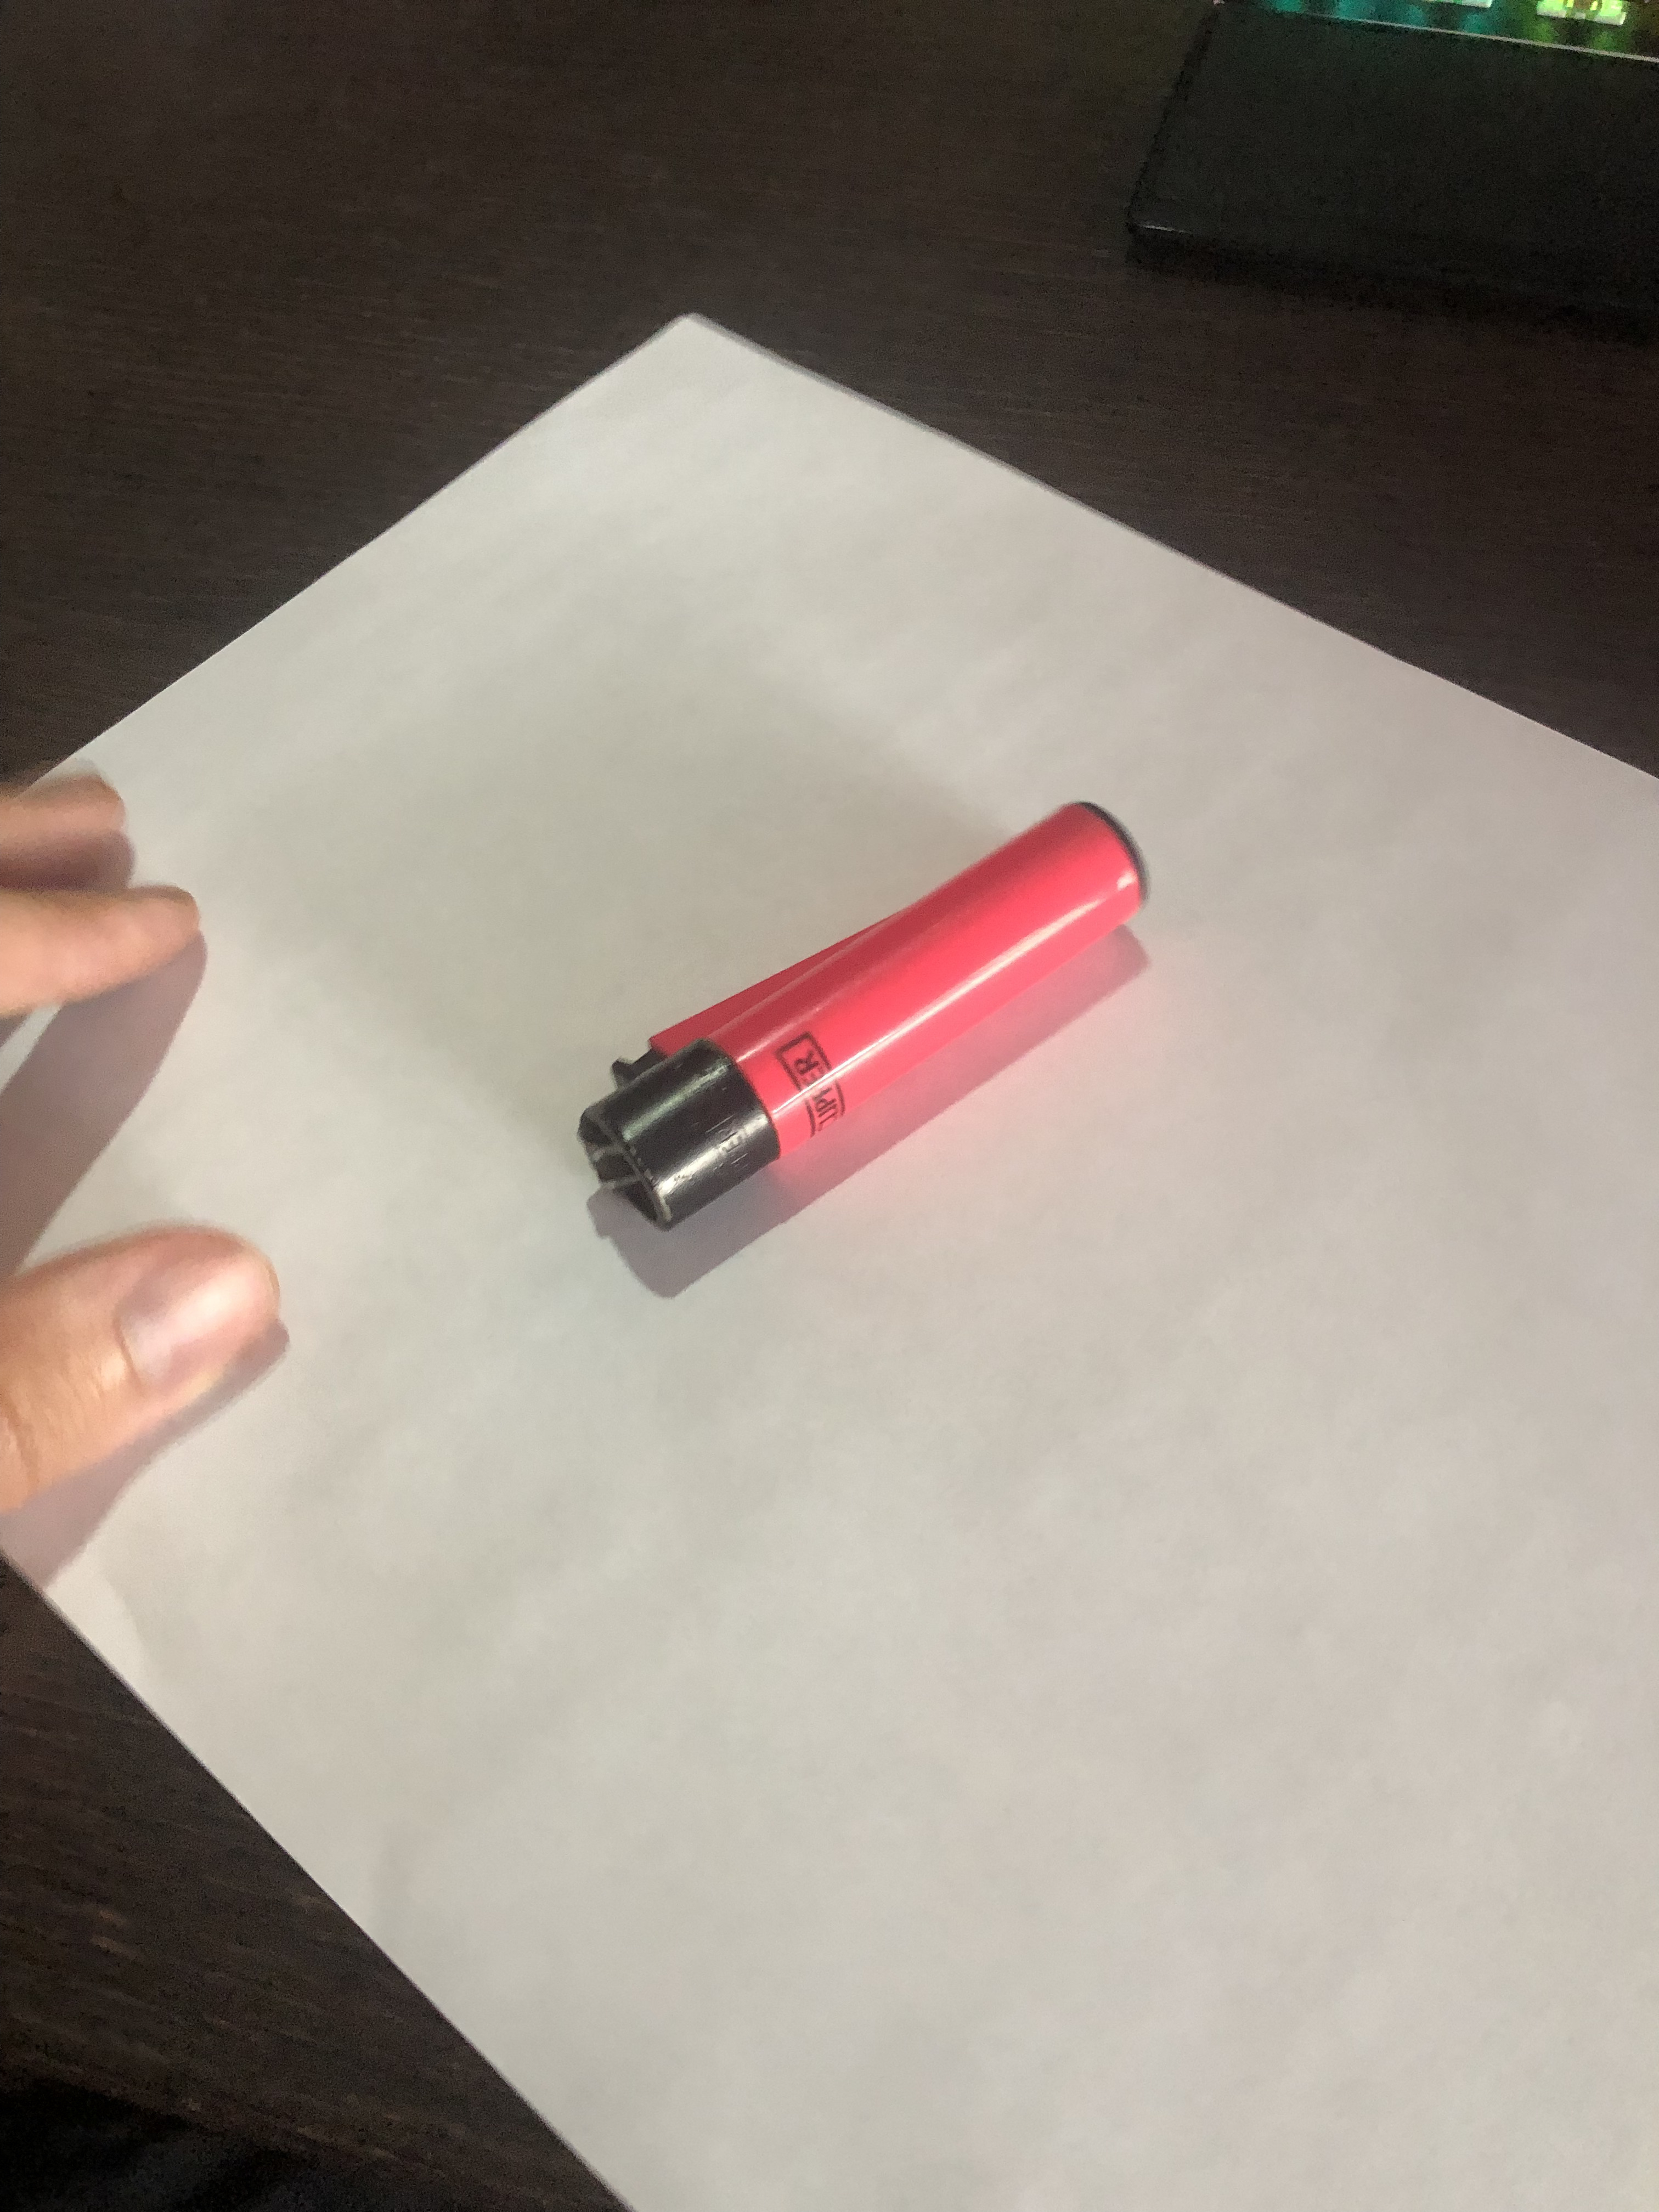Mechero: (579, 801, 1166, 1209)
